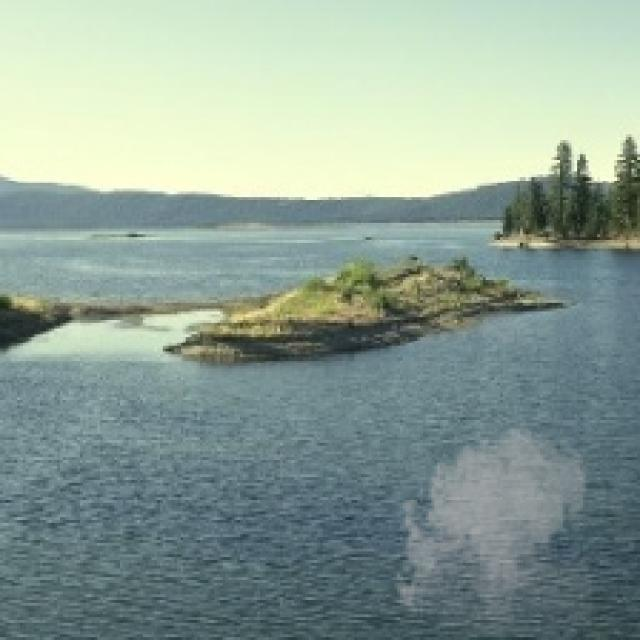smoke: (389, 414, 594, 634)
